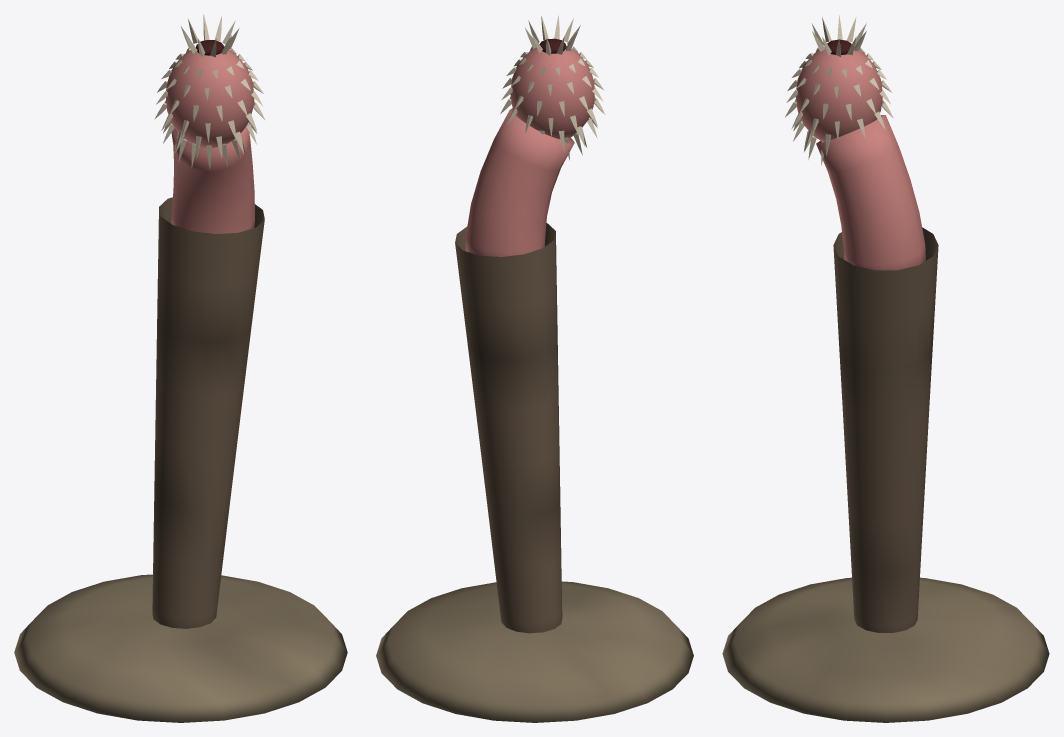
File: Selkirkia.fbx
3 renders of one model, left to right at view 1: azimuth 30°, elevation 25°; view 2: azimuth 150°, elevation 25°; view 3: azimuth 270°, elevation 25°, orthographic. The views are drawn at different scales.
Visible parts, largest first — view 1: Selkirkia; view 2: Selkirkia; view 3: Selkirkia.
Part boxes in pixels (box(x1,y1,x2,y2)): Selkirkia: box(14, 14, 347, 722); Selkirkia: box(376, 15, 693, 722); Selkirkia: box(722, 15, 1049, 722).
Size of the model in its own units: 0.56 by 1.21 by 0.56.
